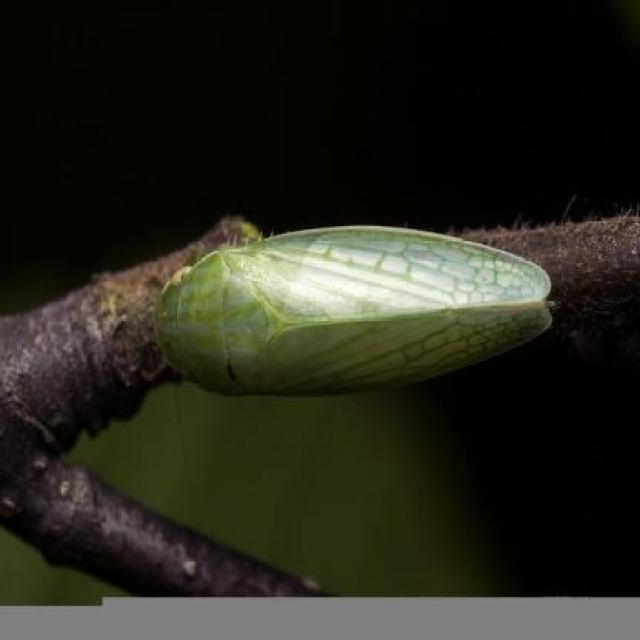green-leafhopper: (171, 236, 534, 384)
